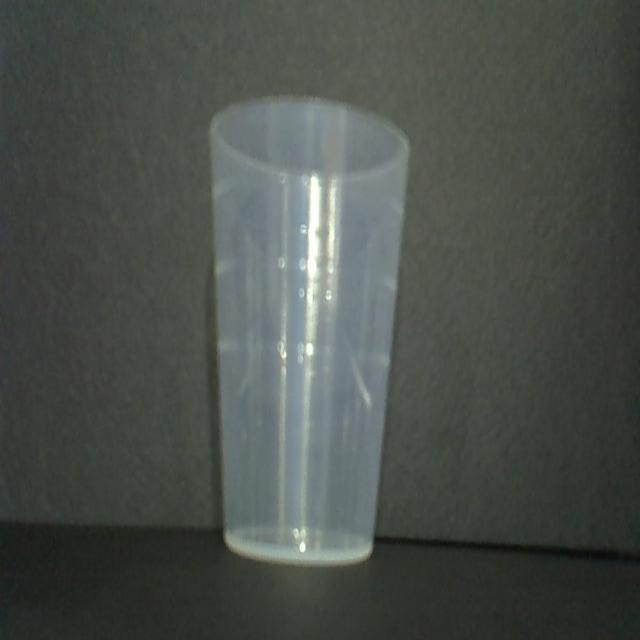cup: (204, 93, 414, 569)
